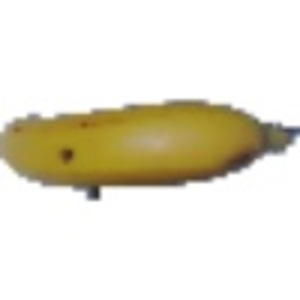banana: (2, 98, 294, 193)
